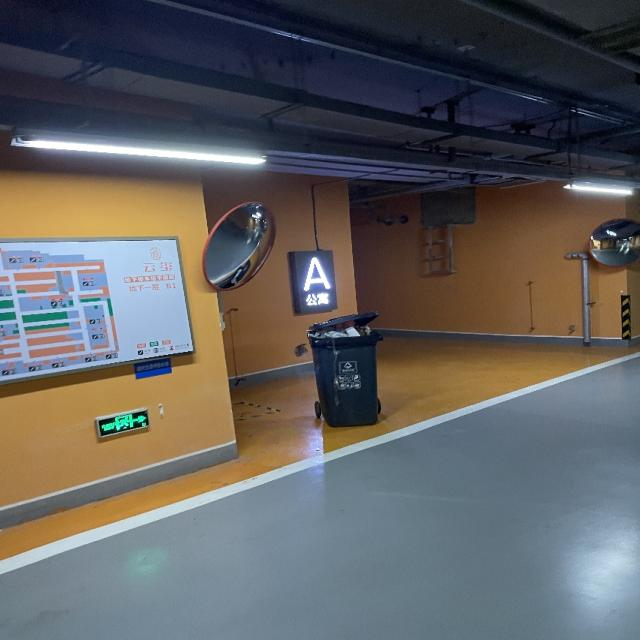overflow: (304, 311, 381, 427)
